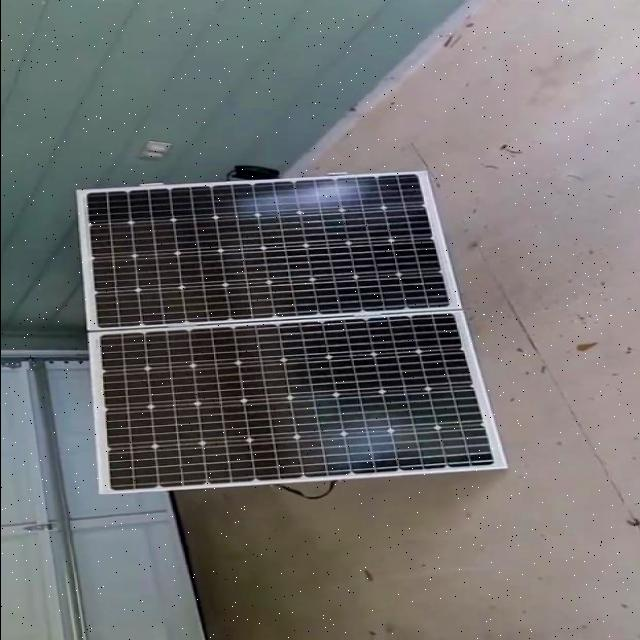Normal Solar Panel: (76, 171, 506, 492)
